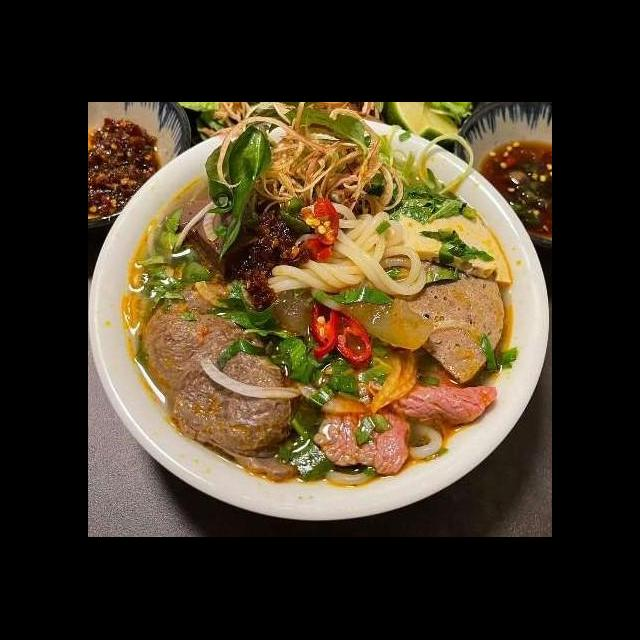bun: (189, 216, 312, 380)
bun bo: (112, 140, 551, 525)
rau ram: (110, 362, 263, 429)
thit bo: (274, 336, 478, 492), (382, 228, 493, 332), (360, 150, 454, 261)
